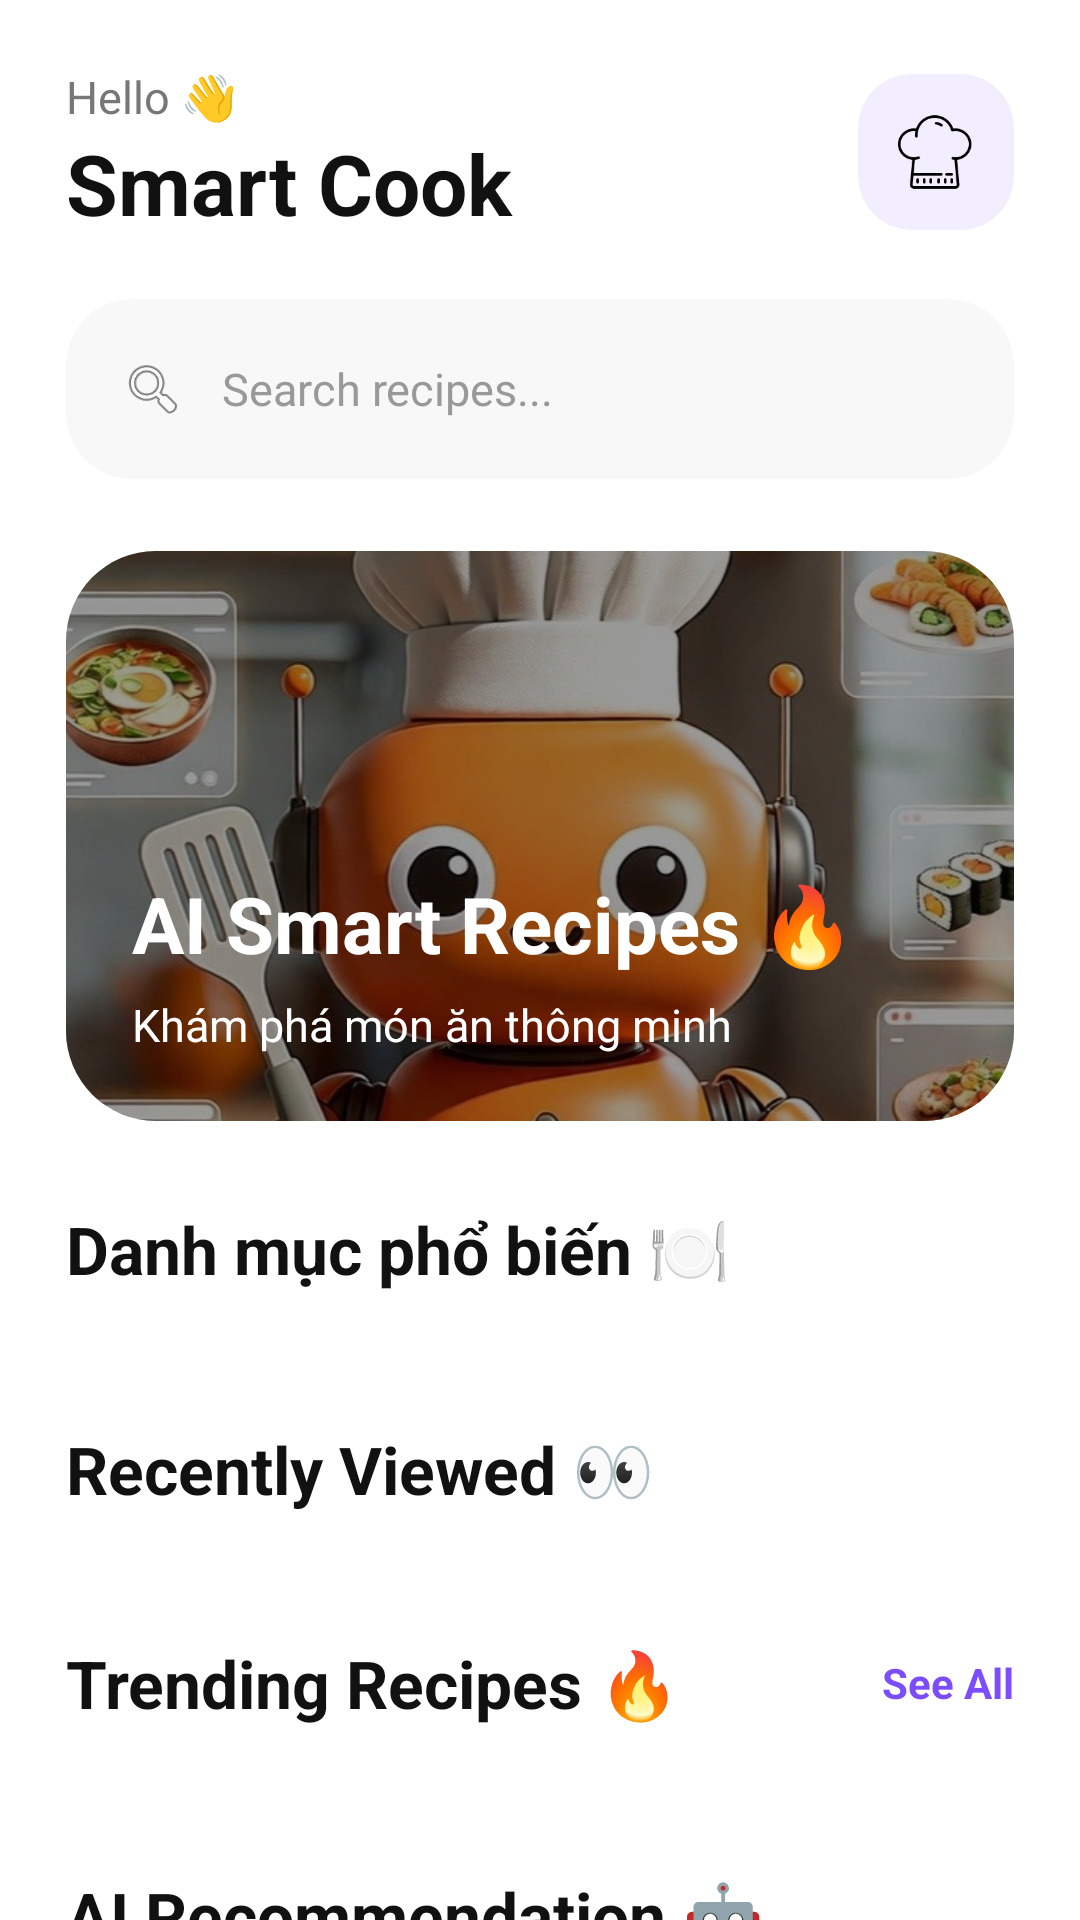

Icon click points for this 1080 × 1920 phone screenshot, format [x,y]:
chef: [935,152]
